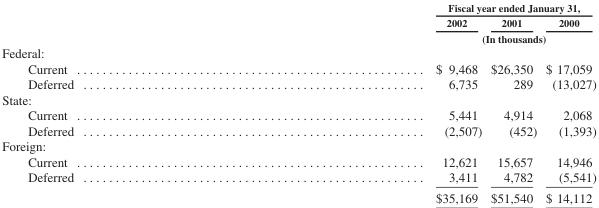table: (1, 0, 595, 204)
table column: (1, 0, 254, 204), (254, 0, 485, 204), (485, 0, 540, 204), (540, 0, 595, 204)
table column header: (1, 0, 595, 44)
table projected row header: (1, 44, 595, 60), (1, 91, 595, 107), (1, 138, 595, 153)
table row: (1, 169, 595, 187), (1, 187, 595, 204), (1, 14, 595, 30), (1, 44, 595, 60), (1, 60, 595, 76), (1, 91, 595, 107), (1, 122, 595, 138), (1, 153, 595, 169), (1, 76, 595, 91), (1, 107, 595, 122), (1, 138, 595, 153), (1, 0, 595, 14), (1, 30, 595, 44)
table spanning cell: (254, 0, 595, 14), (254, 30, 595, 44)
